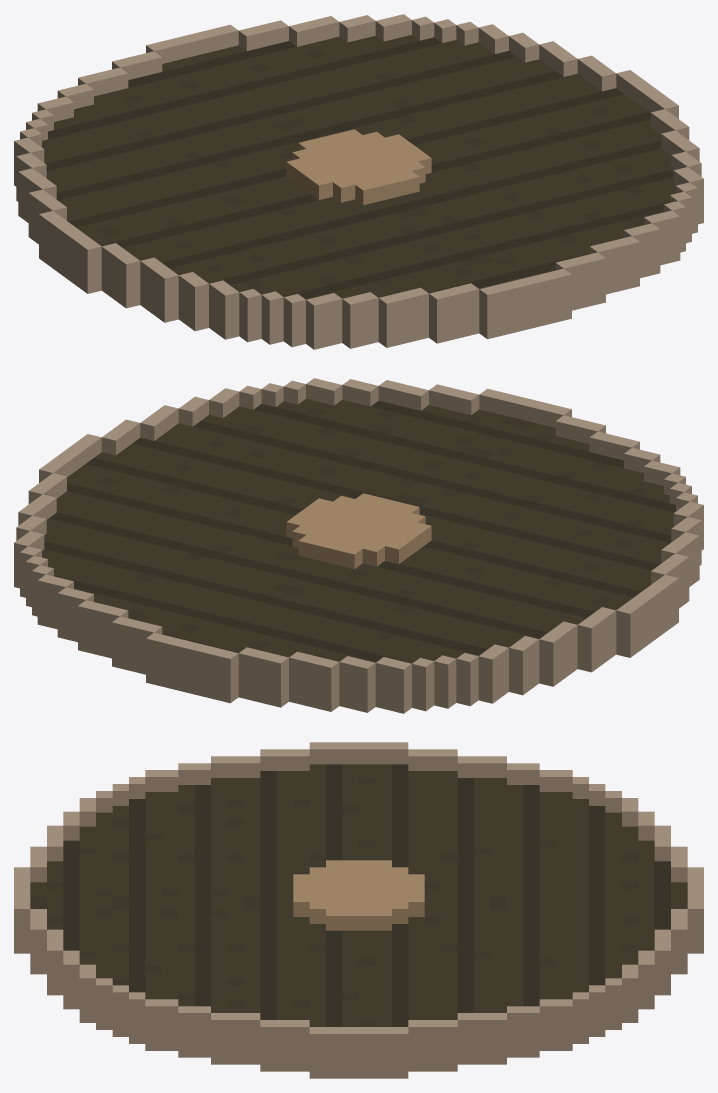
The model's file is WeaponsEnemy1-2.obj.
3 views of the same model, one above another, from view 1: azimuth 30°, elevation 25°; view 2: azimuth 150°, elevation 25°; view 3: azimuth 270°, elevation 25° (orthographic).
Bounding box in the file's own units: 4.2 × 0.3 × 4.2.
Materials: 1 (1 with a texture image).
